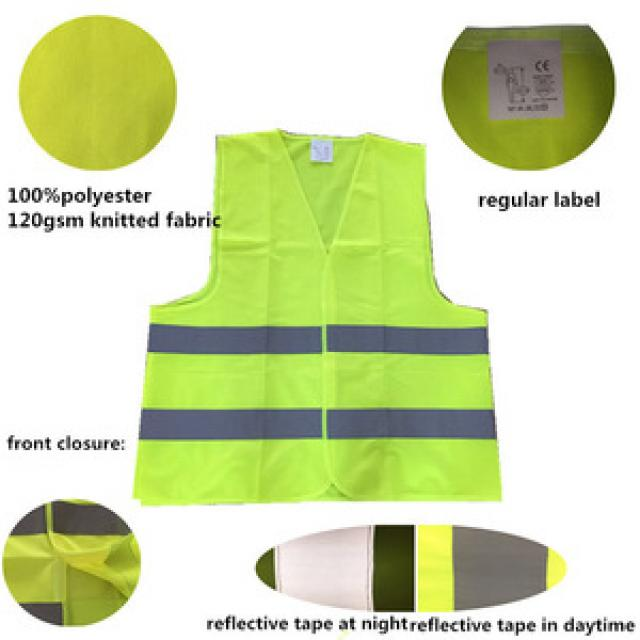Reflective-Jacket: (104, 122, 525, 527)
